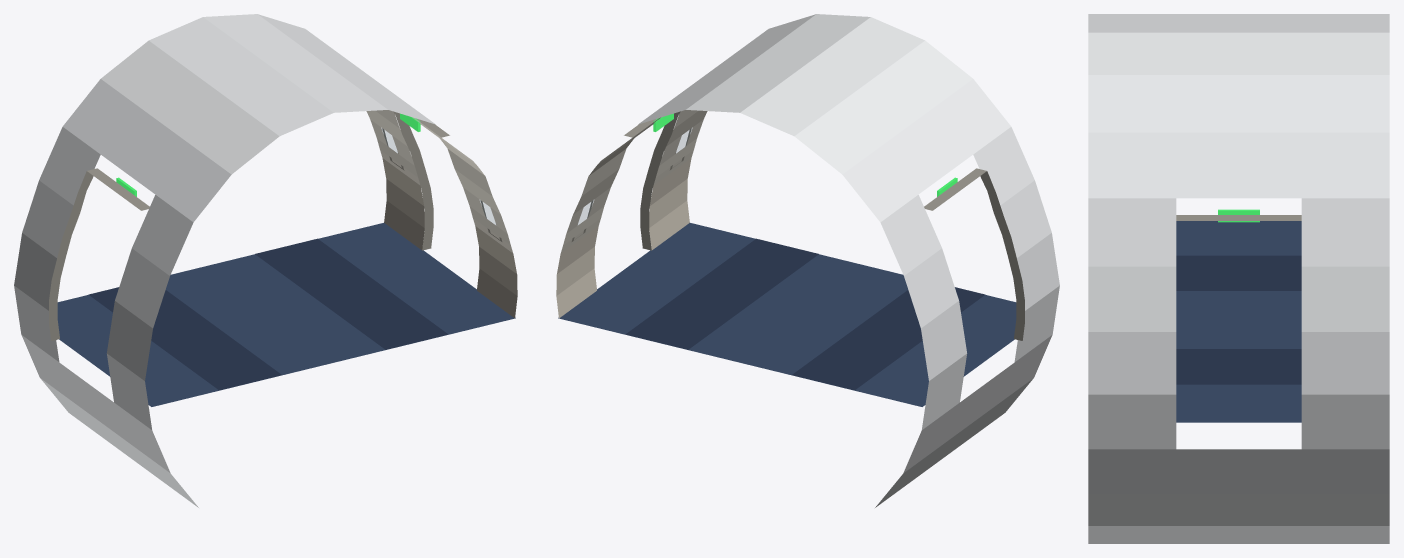
The model's file is ac_section_door.glb.
The picture shows the model from 3 angles, left to right: view 1: azimuth 30°, elevation 25°; view 2: azimuth 150°, elevation 25°; view 3: azimuth 270°, elevation 25°; orthographic projection. The views are drawn at different scales.
Parts seen in each view (by area): view 1: ac_section_door; view 2: ac_section_door; view 3: ac_section_door.
Part boxes in pixels (box(x1,y1,x2,y2)): ac_section_door: box(14, 14, 517, 507); ac_section_door: box(556, 14, 1059, 507); ac_section_door: box(1088, 14, 1389, 543).
Bounding box in the file's own units: 6.11 × 6.47 × 3.6.
